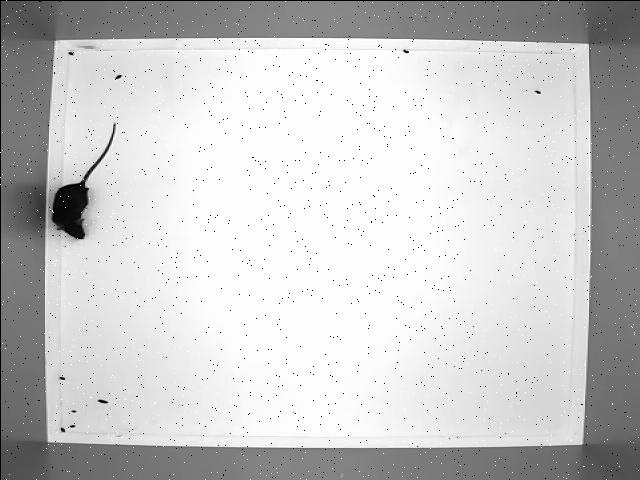Tikus: (37, 122, 116, 242)
